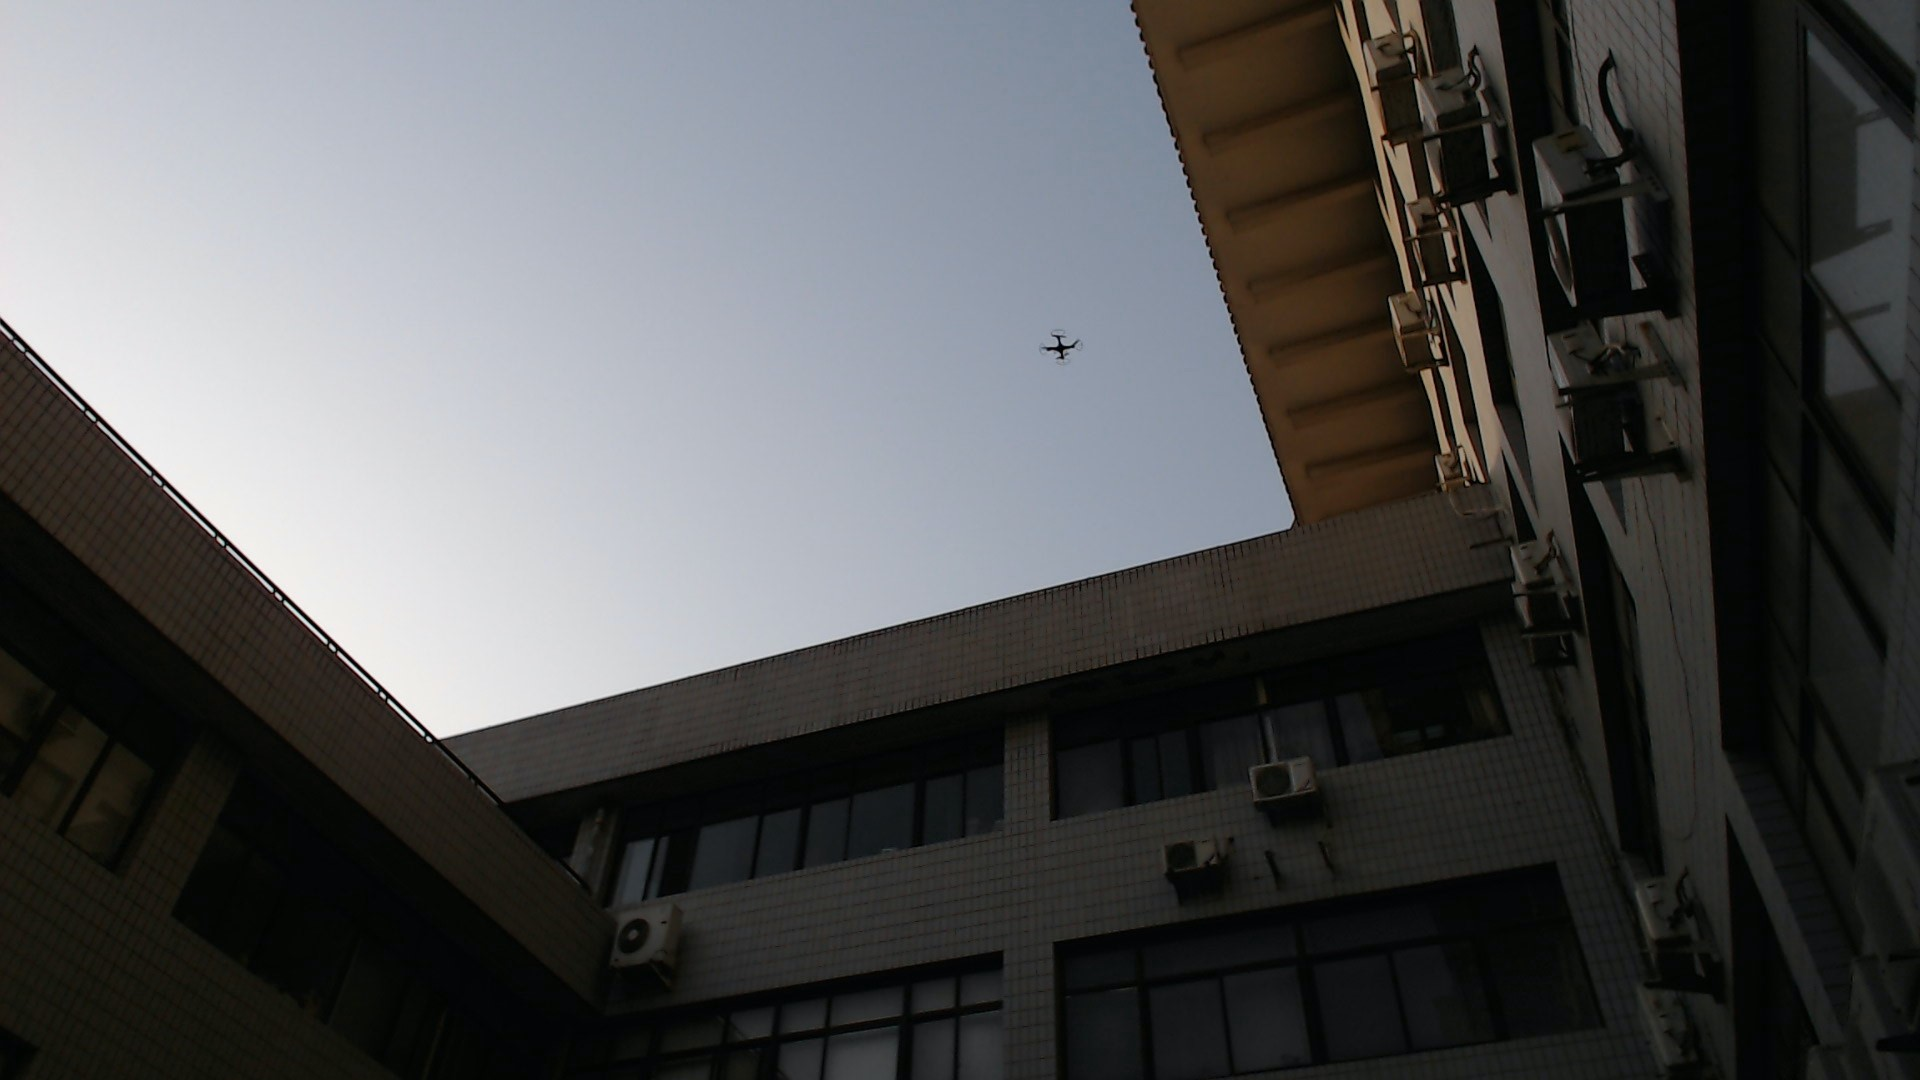drone: (1035, 326, 1087, 367)
